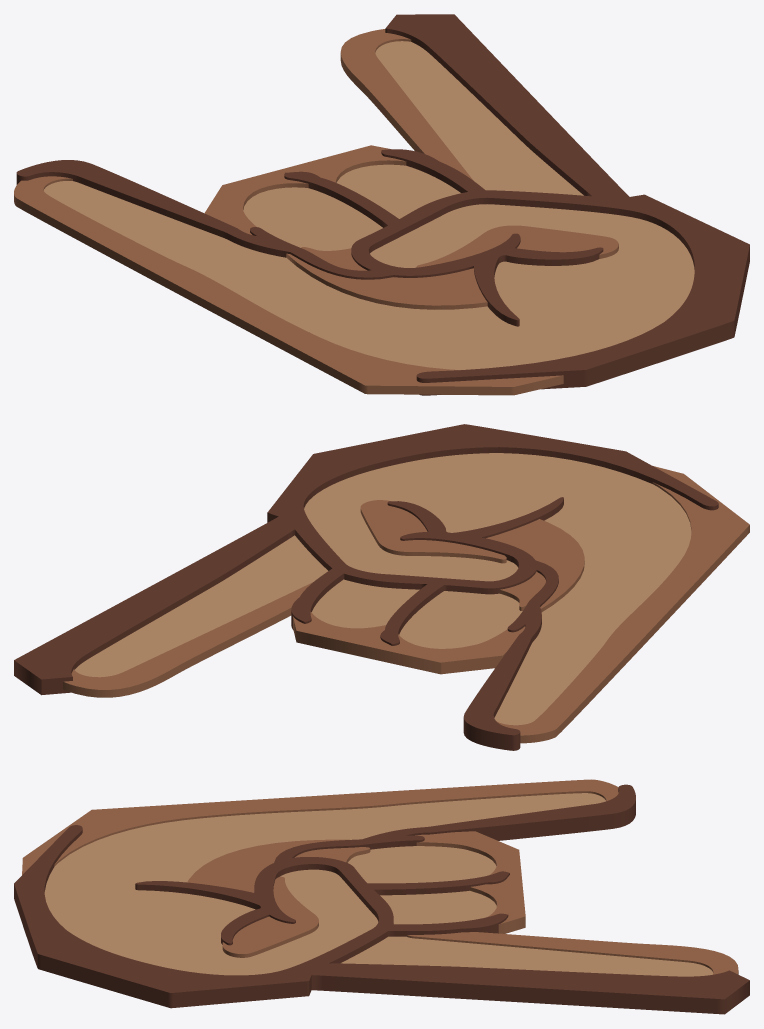
The model's file is emoji_u1f918_1f3fd.glb.
3 renders of one model, top to bottom at view 1: azimuth 30°, elevation 25°; view 2: azimuth 150°, elevation 25°; view 3: azimuth 270°, elevation 25°, orthographic. The views are drawn at different scales.
Parts seen in each view (by area): view 1: emoji_u1f918_1f3fd; view 2: emoji_u1f918_1f3fd; view 3: emoji_u1f918_1f3fd.
Part boxes in pixels (x1,y1,x2,y2): emoji_u1f918_1f3fd: [14, 14, 749, 395]; emoji_u1f918_1f3fd: [14, 424, 749, 750]; emoji_u1f918_1f3fd: [14, 779, 749, 1014].
Bounding box in the file's own units: 0.0254 × 0.0008 × 0.0353.
